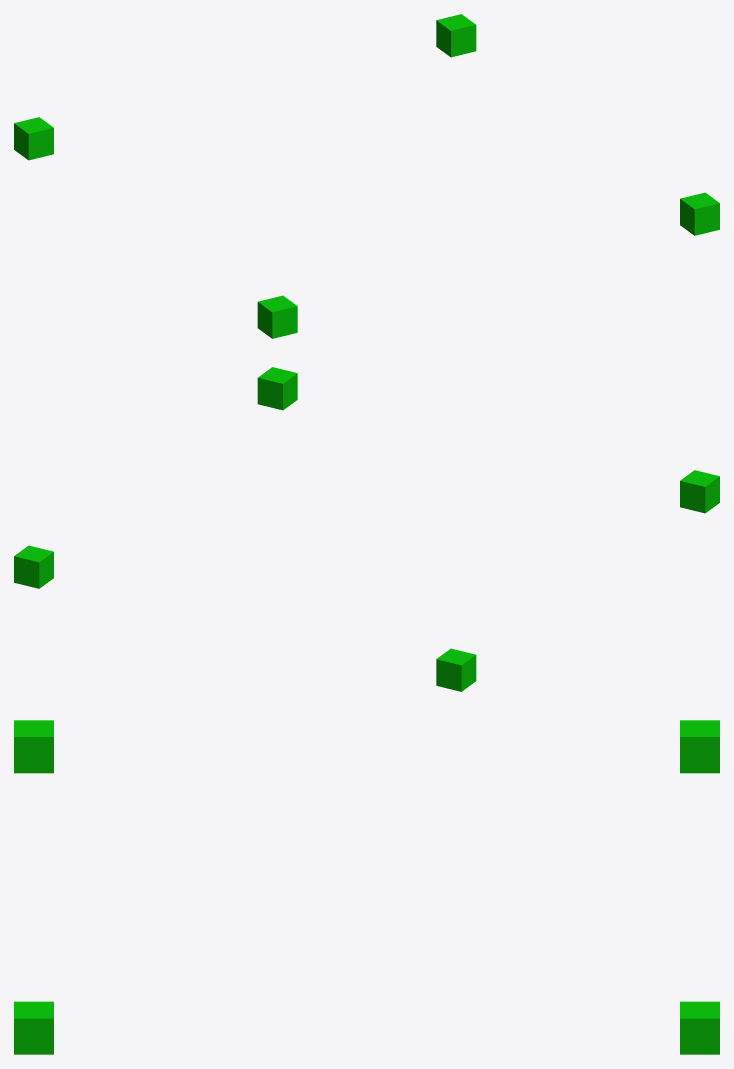
File: SwitchOn.obj
3 views of the same model, one above another, from view 1: azimuth 30°, elevation 25°; view 2: azimuth 150°, elevation 25°; view 3: azimuth 270°, elevation 25° (orthographic). The views are drawn at different scales.
Parts seen in each view (by area): view 1: Cube_Cube.003; view 2: Cube_Cube.003; view 3: Cube_Cube.003.
Boxes of the visible parts, box(x1,y1,x2,y2) form: Cube_Cube.003: box(14, 14, 719, 338); Cube_Cube.003: box(14, 367, 719, 691); Cube_Cube.003: box(14, 720, 719, 1054).
Bounding box in the file's own units: 2.54 × 0.144 × 2.54.
